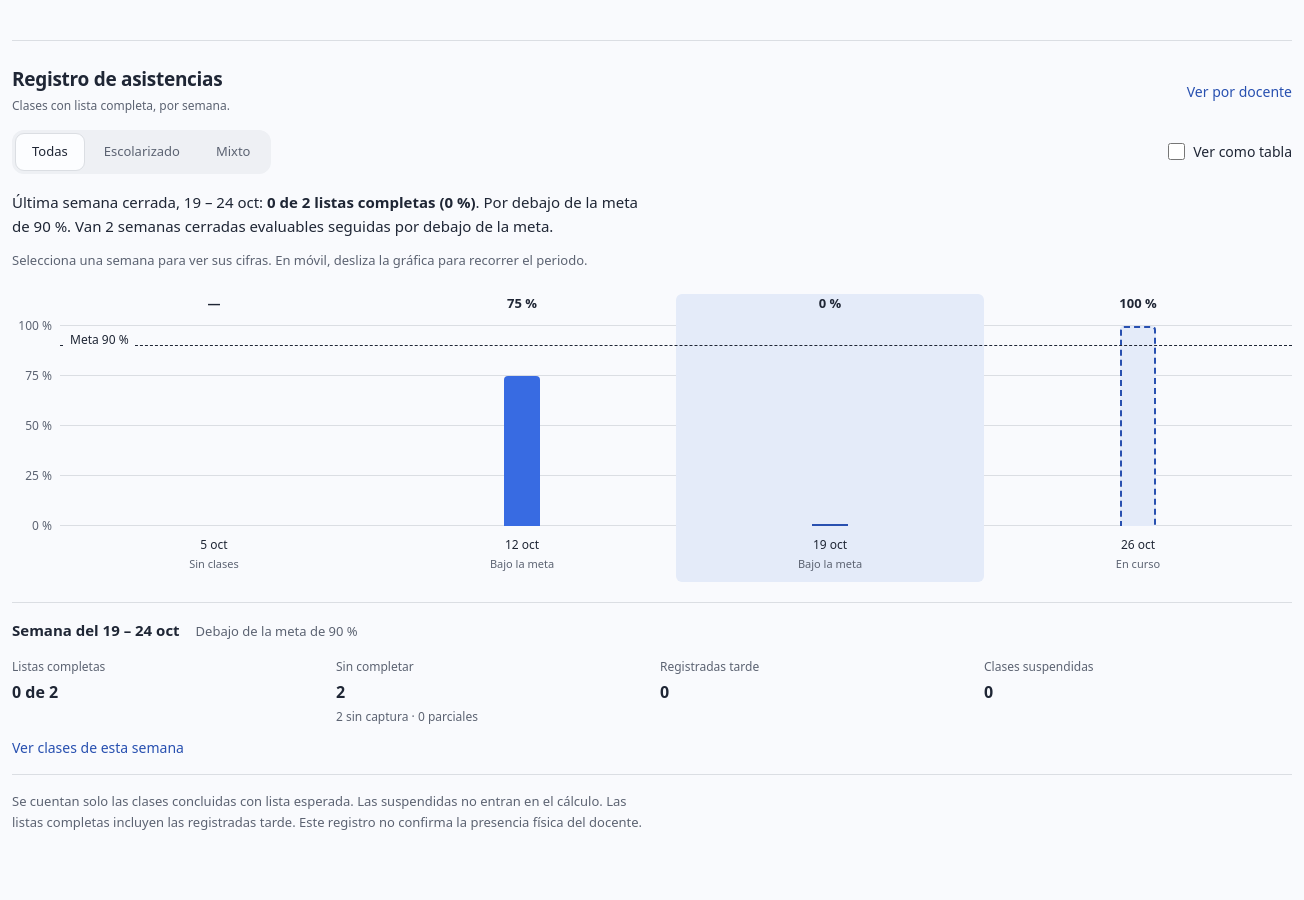
Test case: lectura del registro de asistencias › distingue la última semana cerrada, la semana en curso, el cero y la ausencia de clases
Expected: the text "Última semana cerrada" shows "0 de 2 listas completas (0 %)", top-left (12, 190), bottom-right (656, 238)
Expected: the radio button labelled "— 5 oct Sin clases" is not checked, top-left (189, 294), bottom-right (239, 571)
Click the radio button with aria-label "26 – 31 oct, en curso" at {"x": 1138, "y": 433}, box top-left (1116, 294), bottom-right (1160, 571)
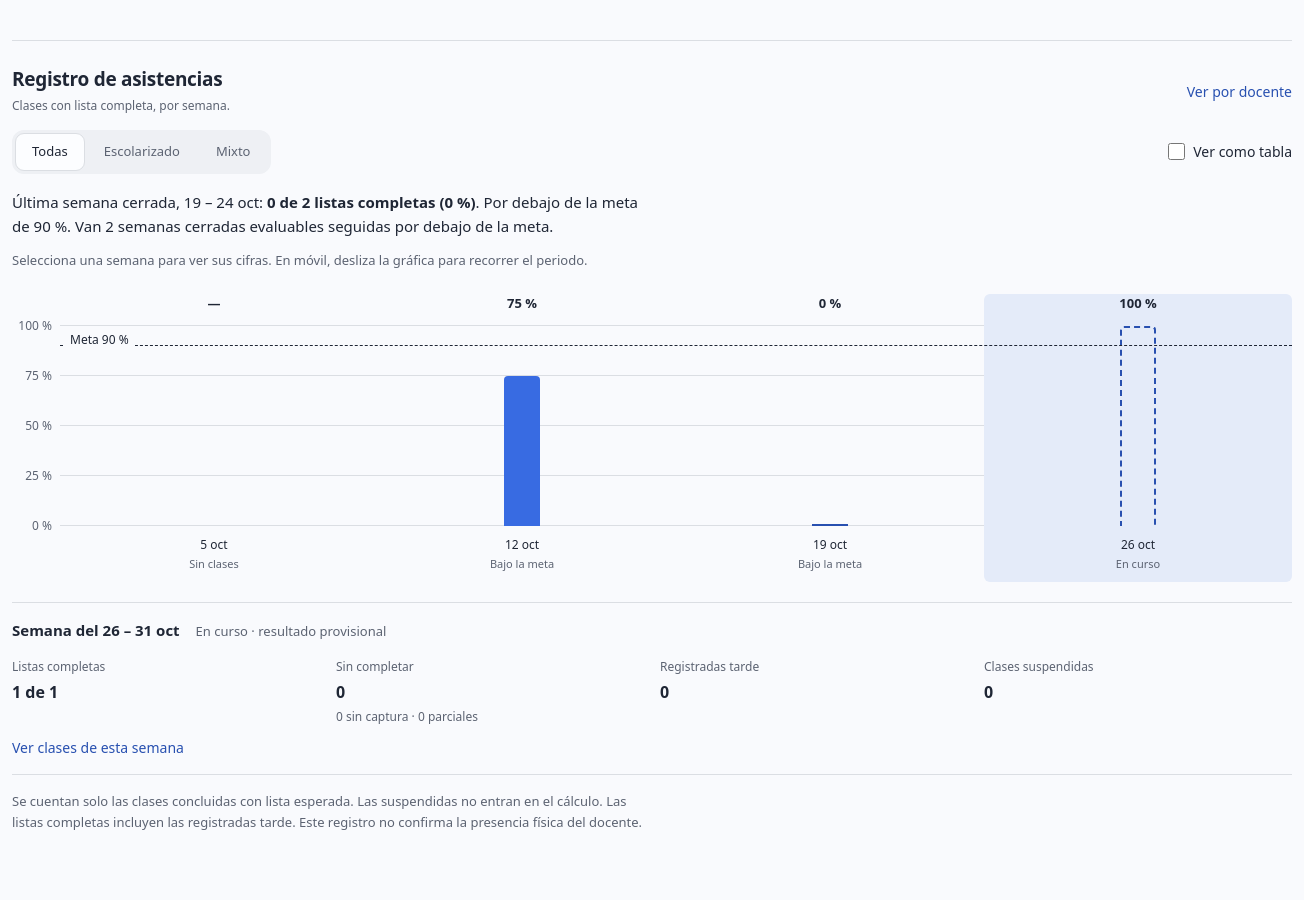
Expected: the text "Última semana cerrada" shows "0 de 2", top-left (12, 190), bottom-right (656, 238)
Result: the text "En curso · resultado provisional" is shown at top-left (196, 622), bottom-right (386, 642)
Click the radio button labelled "— 5 oct Sin clases" at {"x": 214, "y": 564}, box top-left (189, 294), bottom-right (239, 571)
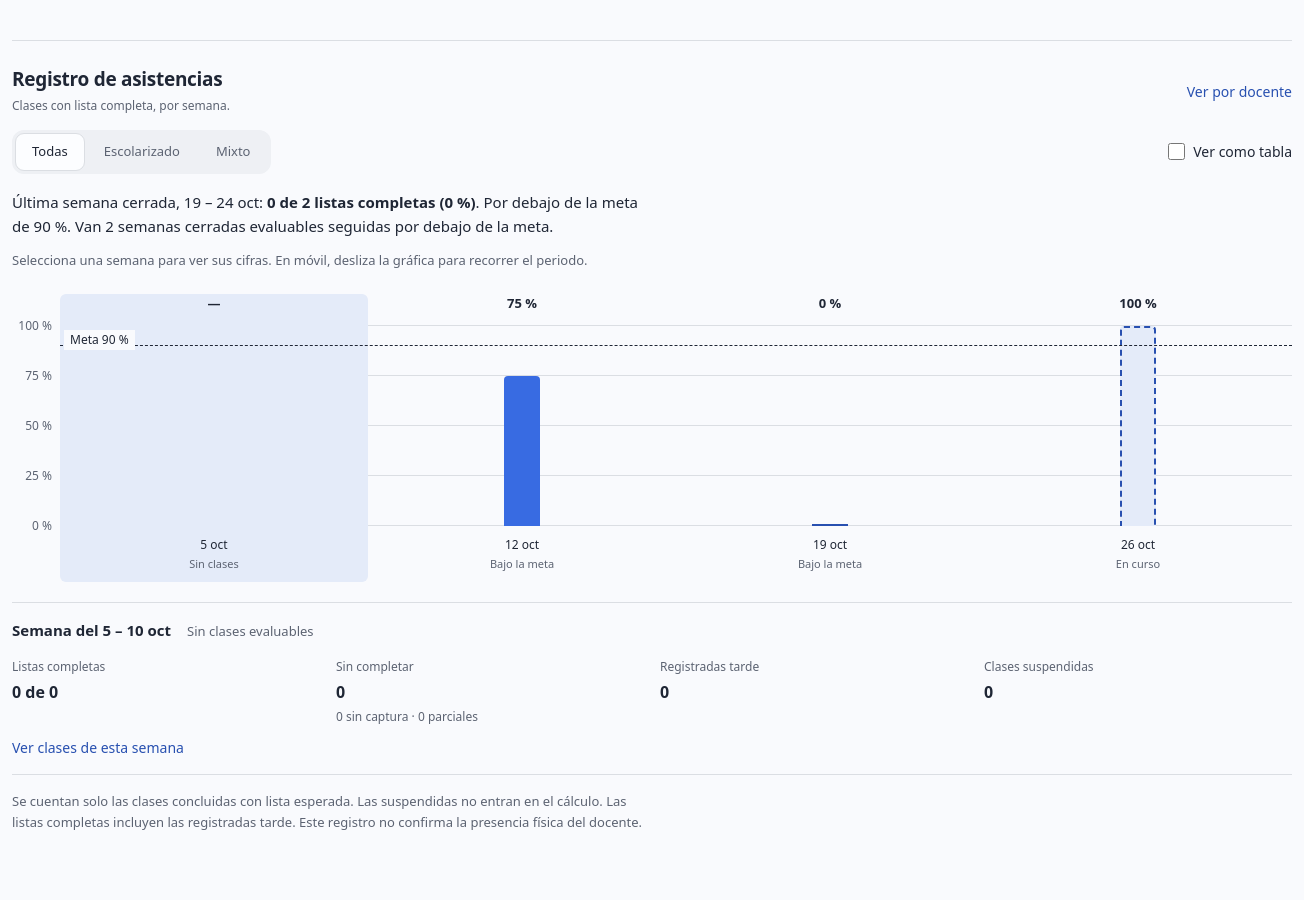
Result: the text "Sin clases evaluables" is shown at top-left (187, 622), bottom-right (314, 642)
